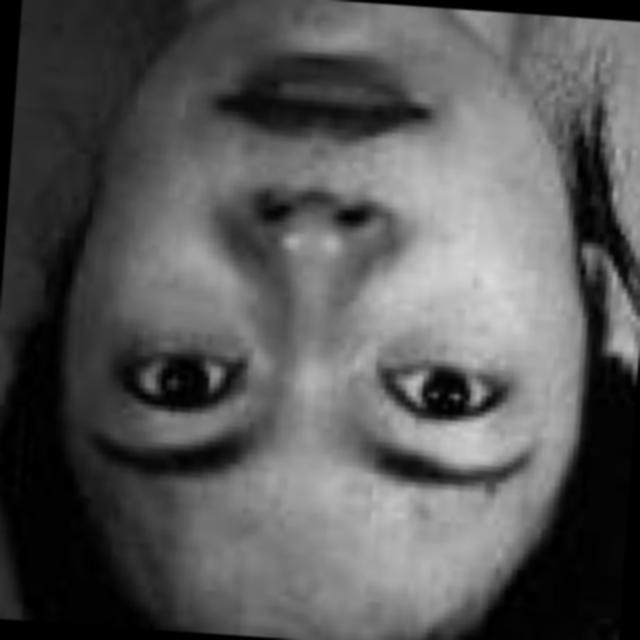fear: (53, 0, 605, 605)
